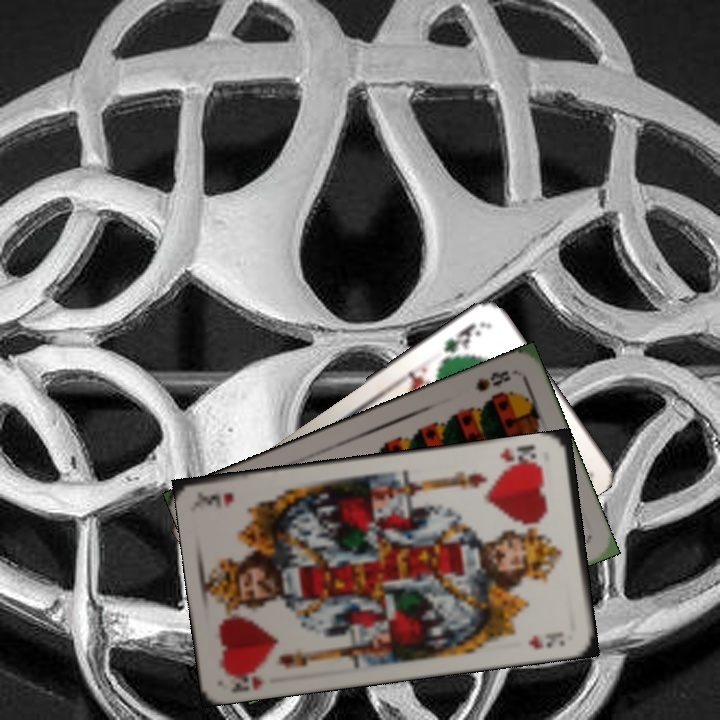GK: (437, 318, 485, 366)
HK: (496, 441, 545, 472), (227, 663, 267, 695)
S8: (471, 366, 513, 395)
